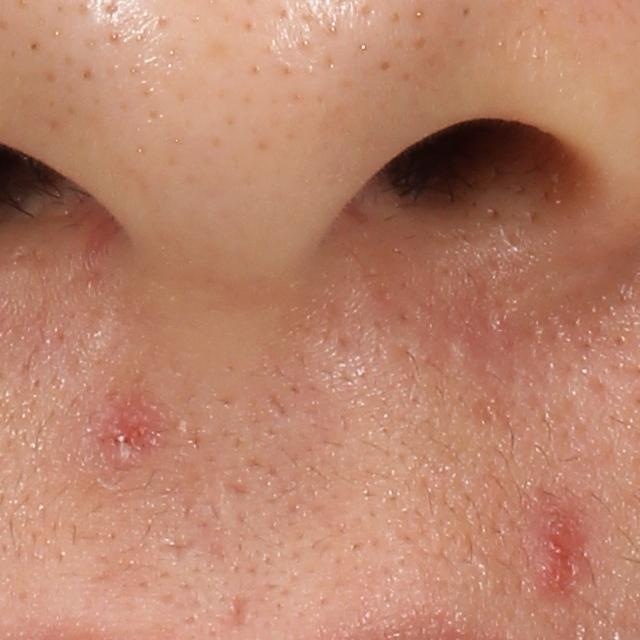atrophic_scar: (156, 532, 198, 567), (225, 588, 256, 635), (265, 388, 289, 420)
